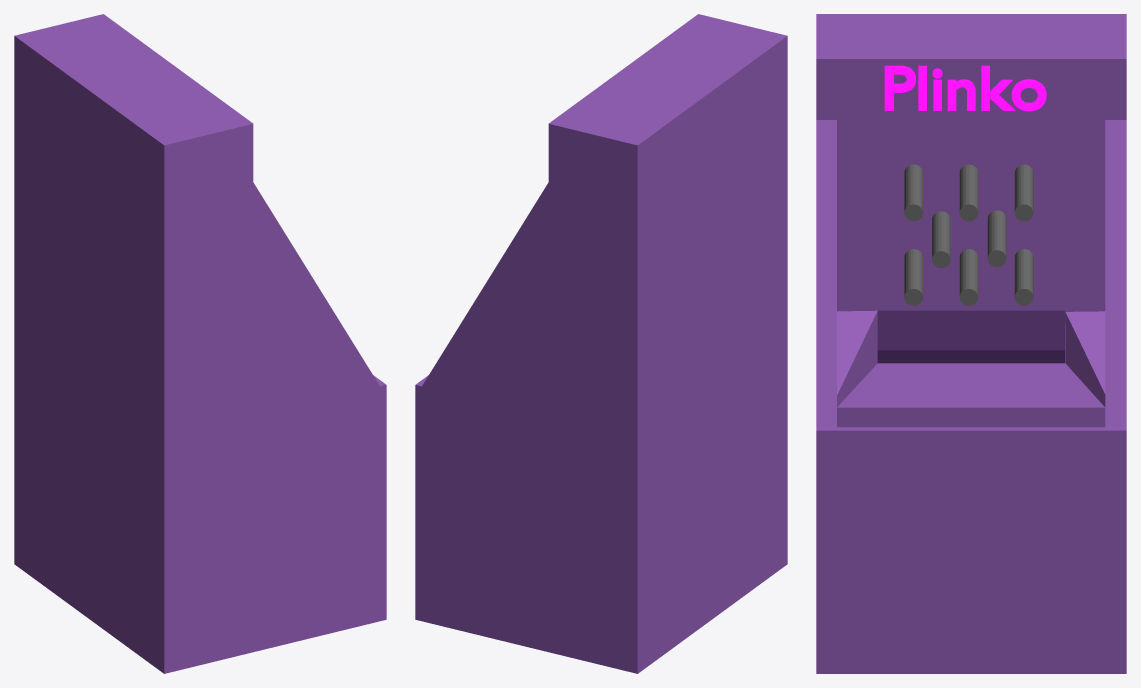
File: CoinPusher.glb
The picture shows the model from 3 angles, left to right: view 1: azimuth 30°, elevation 25°; view 2: azimuth 150°, elevation 25°; view 3: azimuth 270°, elevation 25°; orthographic projection. The views are drawn at different scales.
Parts seen in each view (by area): view 1: Machine; view 2: Machine; view 3: Machine, Pusher, Text, Right Bumper, Left Bumper, Collector Back, Cylinder.005, Cylinder.001, Cylinder.004, Cylinder.002, Cylinder.007, Cylinder (+2 smaller).
Boxes of the visible parts, box(x1,y1,x2,y2) form: Machine: box(14, 14, 386, 673); Machine: box(415, 14, 787, 673); Machine: box(816, 14, 1126, 673); Pusher: box(877, 310, 1064, 363); Text: box(884, 65, 1046, 111); Right Bumper: box(1065, 311, 1105, 406); Left Bumper: box(837, 310, 877, 406); Collector Back: box(837, 406, 1104, 427); Cylinder.005: box(1014, 249, 1033, 305); Cylinder.001: box(959, 164, 978, 221); Cylinder.004: box(959, 249, 978, 305); Cylinder.002: box(1014, 164, 1033, 221); Cylinder.007: box(987, 210, 1006, 266); Cylinder: box(904, 164, 922, 221).
Size of what is drawn, in the model's own units: 1.98 by 4.5 by 2.31.
